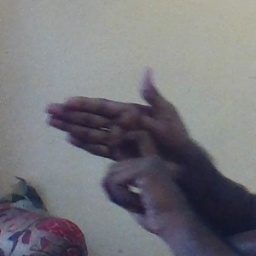R: (46, 66, 197, 223)
